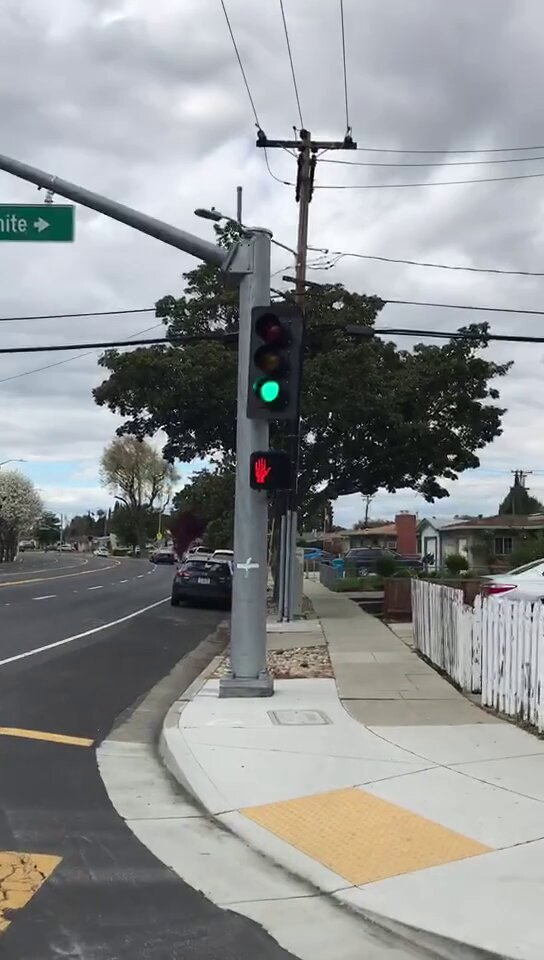green_light: (250, 309, 300, 419)
